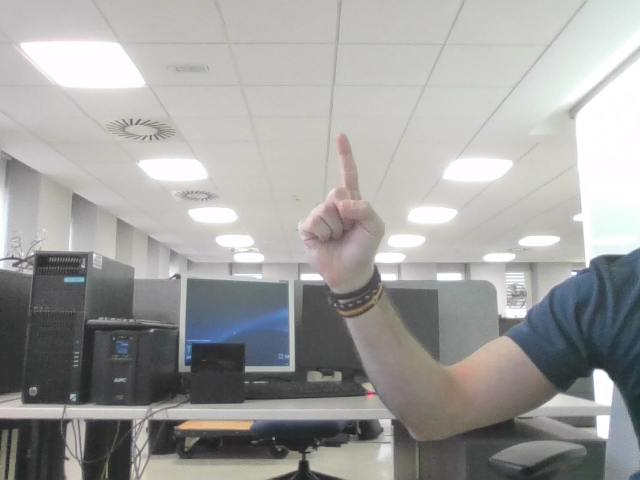1Dedo: (312, 144, 372, 250)
